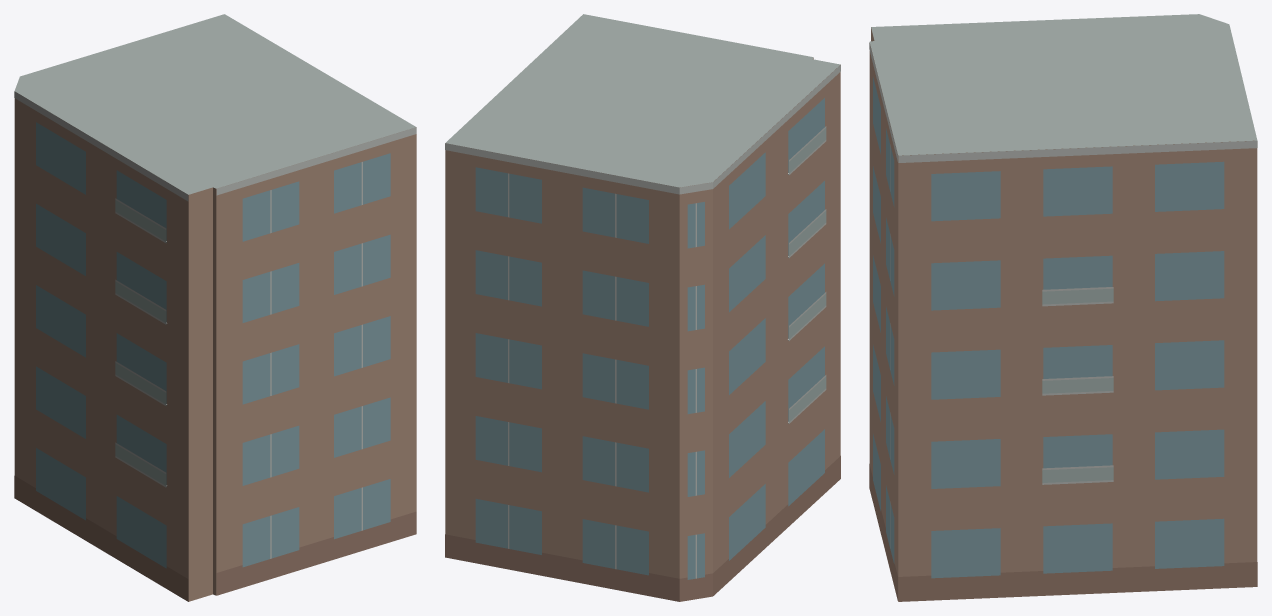
File: survey-upis-32653264.glb
The picture shows the model from 3 angles, left to right: view 1: azimuth 30°, elevation 25°; view 2: azimuth 150°, elevation 25°; view 3: azimuth 270°, elevation 25°; orthographic projection. The views are drawn at different scales.
Visible parts, largest first — view 1: survey-upis-32653264.tmp; view 2: survey-upis-32653264.tmp; view 3: survey-upis-32653264.tmp.
Part boxes in pixels (x1,y1,x2,y2): survey-upis-32653264.tmp: [14, 14, 416, 601]; survey-upis-32653264.tmp: [445, 14, 840, 601]; survey-upis-32653264.tmp: [869, 14, 1257, 601].
Size of the model in its own units: 9.84 by 14.45 by 11.4.
